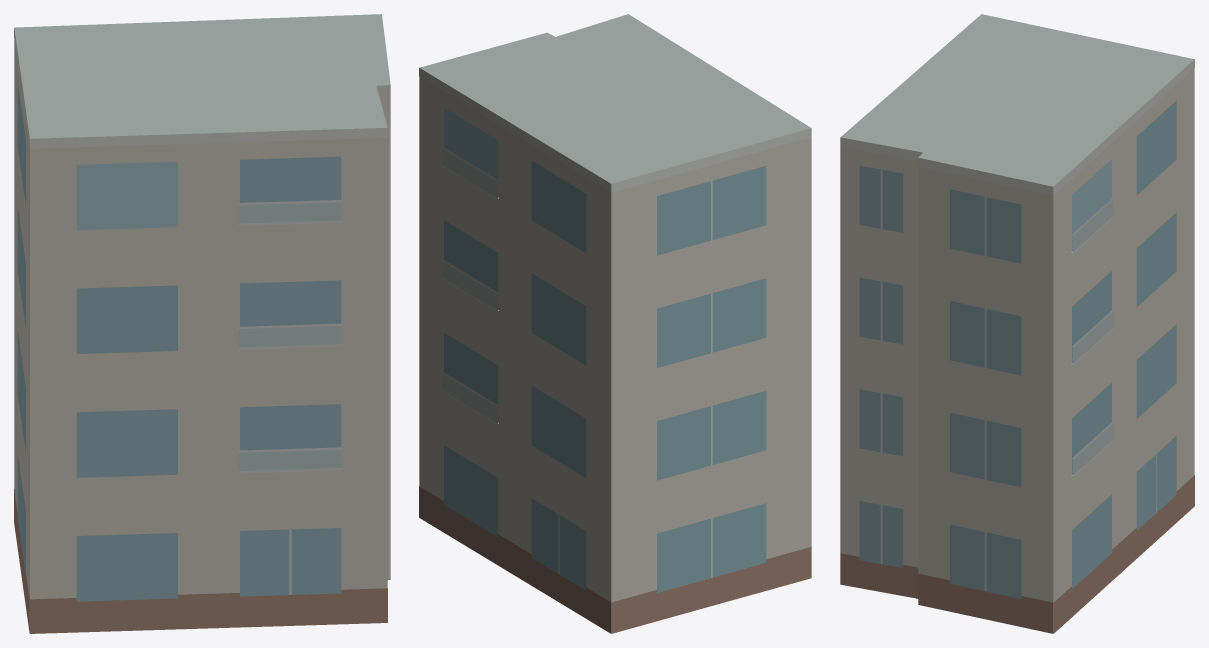
Rendered from survey-upis-32904140.glb.
3 views of the same model, side by side, from view 1: azimuth 30°, elevation 25°; view 2: azimuth 150°, elevation 25°; view 3: azimuth 270°, elevation 25° (orthographic). The views are drawn at different scales.
Parts seen in each view (by area): view 1: survey-upis-32904140.tmp; view 2: survey-upis-32904140.tmp; view 3: survey-upis-32904140.tmp.
Part boxes in pixels (<box>): survey-upis-32904140.tmp: <box>14,14,390,633</box>; survey-upis-32904140.tmp: <box>419,14,811,633</box>; survey-upis-32904140.tmp: <box>840,14,1194,633</box>.
Bounding box in the file's own units: 10.12 × 12.2 × 8.77.
